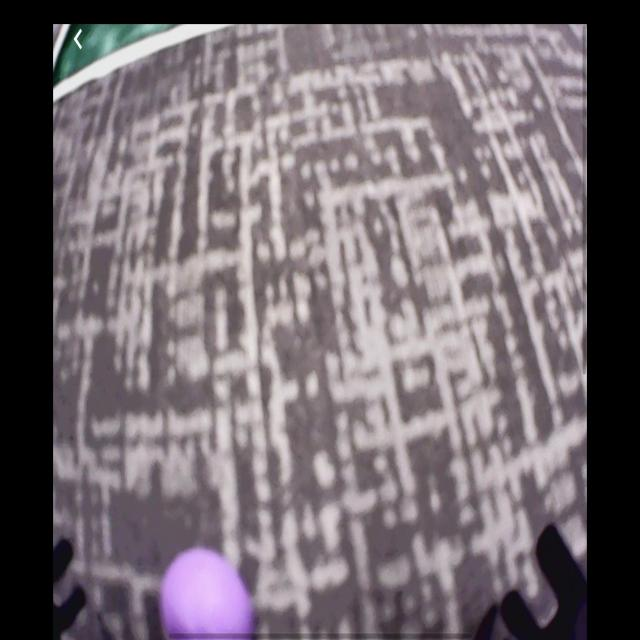ball: (164, 548, 253, 640)
